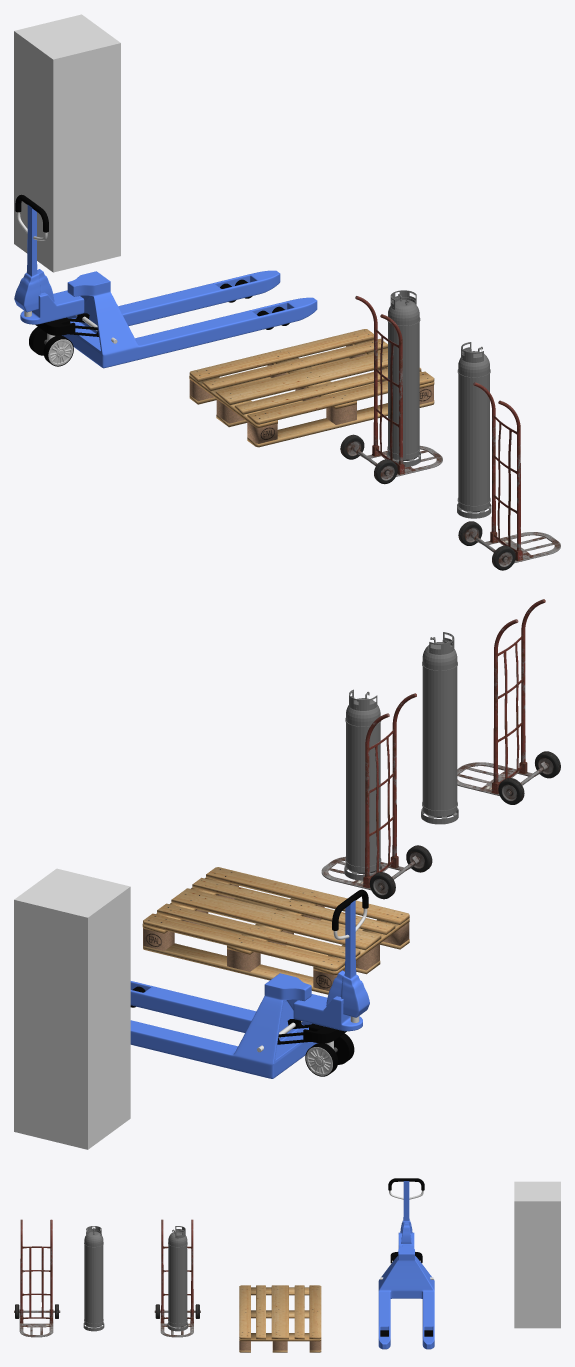
File: transport_items.glb
The picture shows the model from 3 angles, top to bottom: view 1: azimuth 30°, elevation 25°; view 2: azimuth 150°, elevation 25°; view 3: azimuth 270°, elevation 25°; orthographic projection. The views are drawn at different scales.
Parts seen in each view (by area): view 1: PLAYER_SIZE_IGNORE, EUR-Pallet, Box001, Bottle.001, Bottle, hand_truck.001, hand_truck, Box005, Cylinder005; view 2: PLAYER_SIZE_IGNORE, EUR-Pallet, Box001, Bottle.001, Bottle, hand_truck.001, hand_truck, Box005, Cylinder005; view 3: PLAYER_SIZE_IGNORE, EUR-Pallet, Box001, Bottle.001, Bottle, hand_truck.001, hand_truck, Box005.
Boxes of the visible parts, x1,y1,x2,y2 form: PLAYER_SIZE_IGNORE: (14,14,120,272); EUR-Pallet: (189,329,434,447); Box001: (62,270,317,368); Bottle.001: (457,349,491,518); Bottle: (386,297,420,466); hand_truck.001: (458,382,560,570); hand_truck: (340,296,442,484); Box005: (14,204,54,312); Cylinder005: (20,290,84,324); PLAYER_SIZE_IGNORE: (14,868,130,1149); EUR-Pallet: (142,867,409,994); Box001: (130,973,317,1078); Bottle.001: (421,639,458,824); Bottle: (344,697,381,880); hand_truck.001: (457,599,560,804); hand_truck: (321,693,432,899); Box005: (326,900,369,1017); Cylinder005: (293,994,362,1031); PLAYER_SIZE_IGNORE: (514,1181,560,1328); EUR-Pallet: (239,1285,321,1352); Box001: (378,1244,434,1349); Bottle.001: (83,1230,104,1331); Bottle: (167,1230,188,1331); hand_truck.001: (14,1219,60,1337); hand_truck: (154,1219,200,1337); Box005: (400,1181,412,1243).
Bounding box in the file's own units: 2.46 × 1.8 × 7.03.
14 materials, 2 textured.
